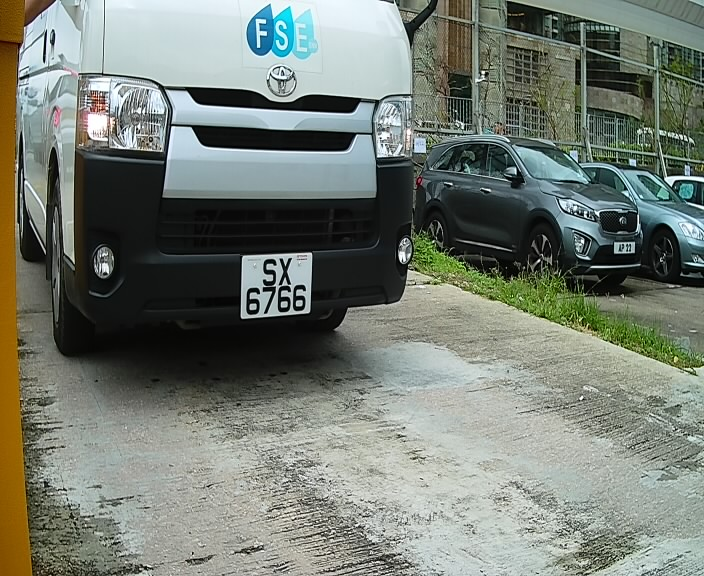Car: (32, 3, 422, 385)
License Plate: (237, 248, 321, 325)
